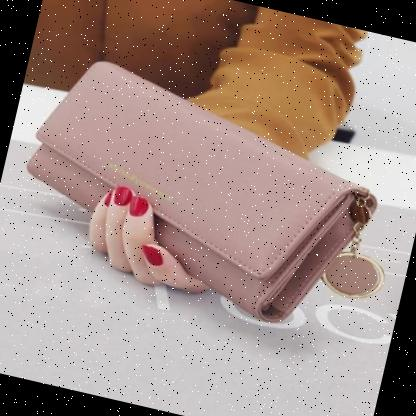bag: (0, 39, 410, 347)
